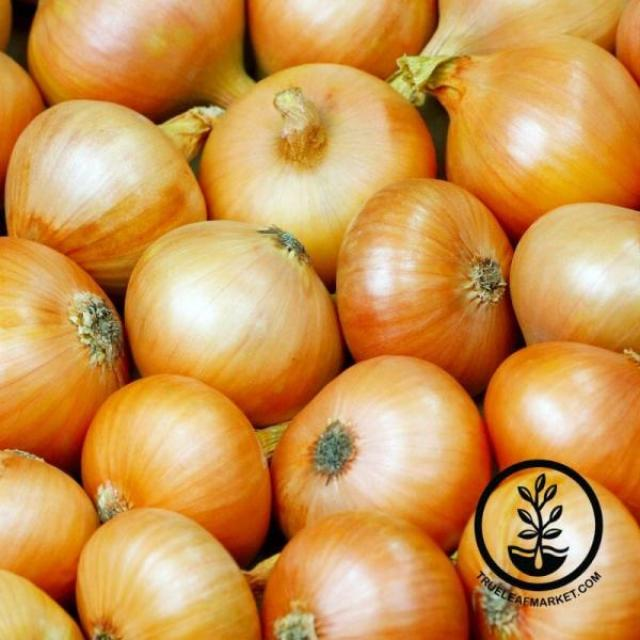Onion: (274, 365, 496, 536), (118, 235, 334, 398), (227, 98, 440, 260), (336, 184, 510, 374), (69, 392, 289, 528), (455, 50, 640, 208), (0, 212, 131, 428), (23, 104, 206, 254), (251, 512, 447, 640), (93, 501, 250, 640), (483, 354, 640, 462), (518, 211, 640, 347)
